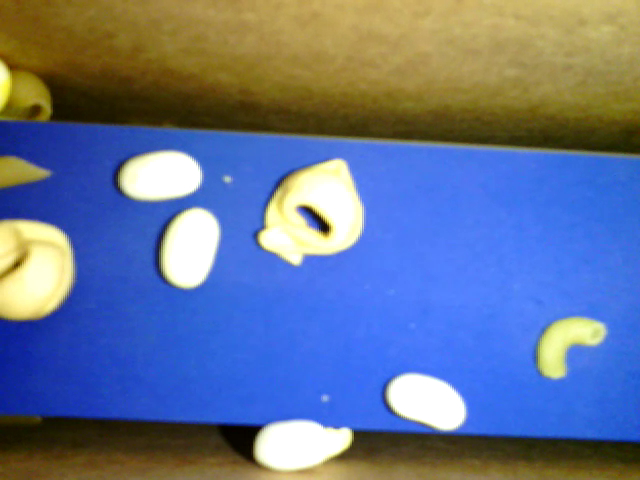elbow: (535, 310, 608, 381)
penne: (2, 148, 55, 190)
shell: (5, 68, 57, 131)
tortellini: (254, 155, 371, 267), (3, 218, 76, 325)
